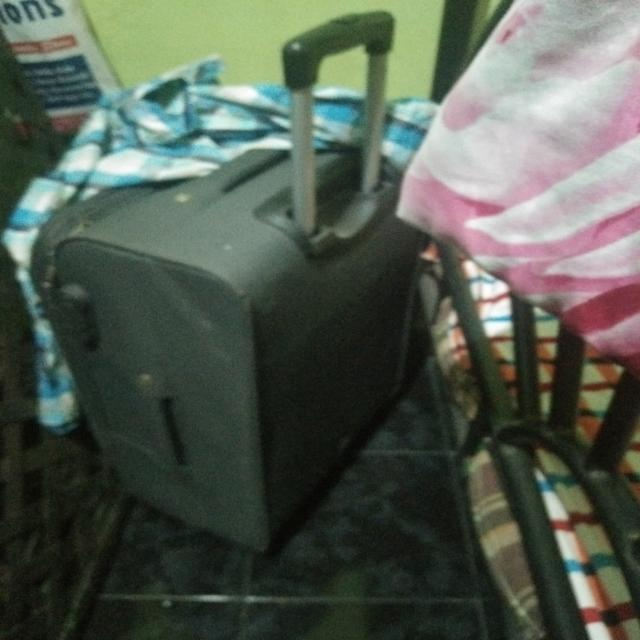suitcaserotation: (26, 6, 426, 559)
